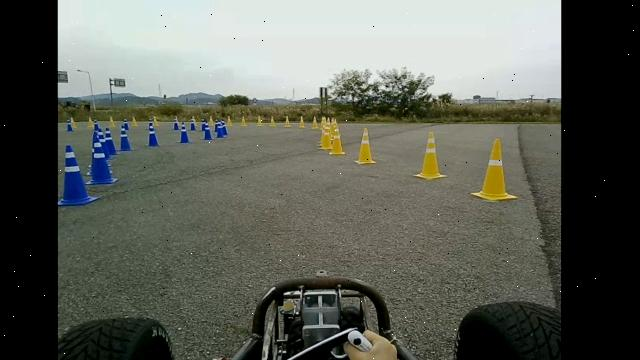blue cone: (57, 144, 100, 206), (83, 134, 118, 186), (104, 126, 119, 155), (144, 122, 161, 147), (118, 125, 134, 151), (176, 122, 192, 144), (215, 124, 226, 138), (122, 118, 130, 130)
yellow cone: (470, 138, 518, 202), (413, 131, 447, 180), (354, 127, 376, 164), (328, 124, 348, 158)
